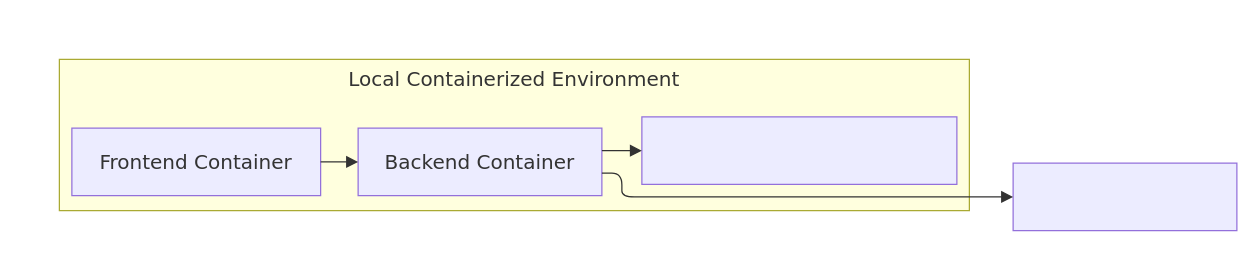
Image size: 1259x253. Some labels were removed from this diagram. Each missing label, with the centre of its shape:
External LLM API: point (1124, 196)
Optional Local LLM Service: point (799, 150)
